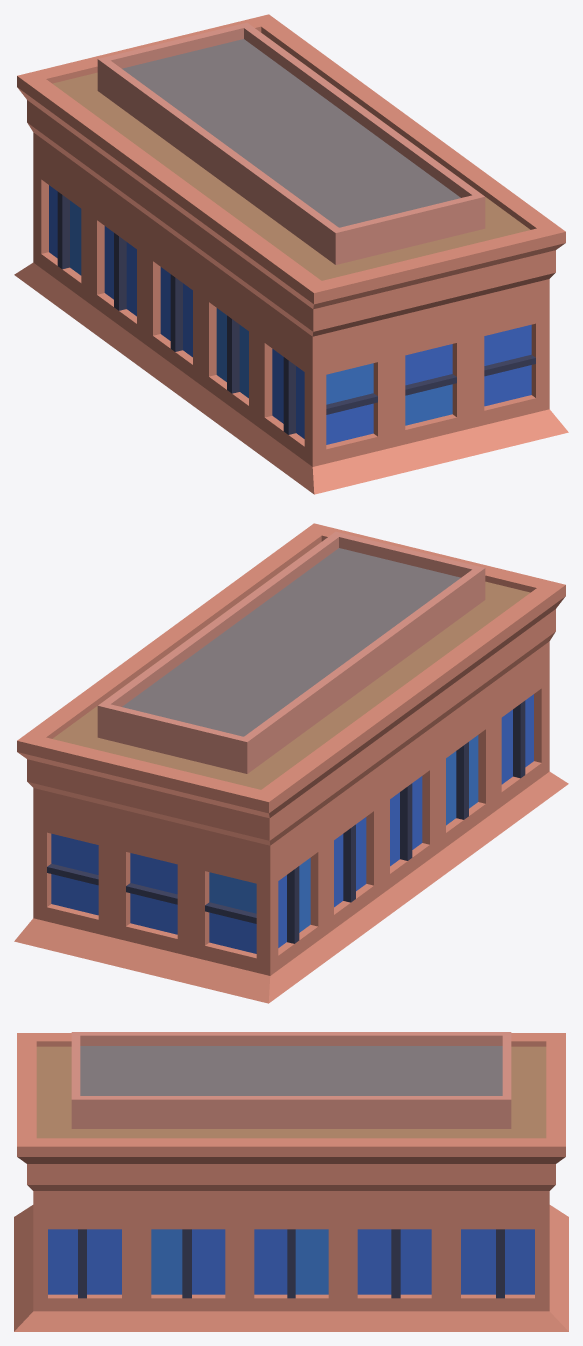
Rendered from building_1x2_1_r.glb.
The picture shows the model from 3 angles, top to bottom: view 1: azimuth 30°, elevation 25°; view 2: azimuth 150°, elevation 25°; view 3: azimuth 270°, elevation 25°; orthographic projection. The views are drawn at different scales.
Parts seen in each view (by area): view 1: SecondFloor; view 2: SecondFloor; view 3: SecondFloor.
Boxes of the visible parts, x1,y1,x2,y2 form: SecondFloor: (14,14,568,494); SecondFloor: (14,523,568,1003); SecondFloor: (14,1032,568,1331).
Size of the model in its own units: 1.69 by 1.43 by 3.45.
